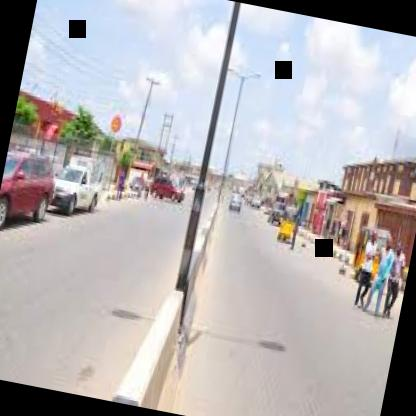car: (0, 127, 73, 251), (47, 146, 112, 226), (141, 167, 191, 212), (221, 186, 246, 220)
